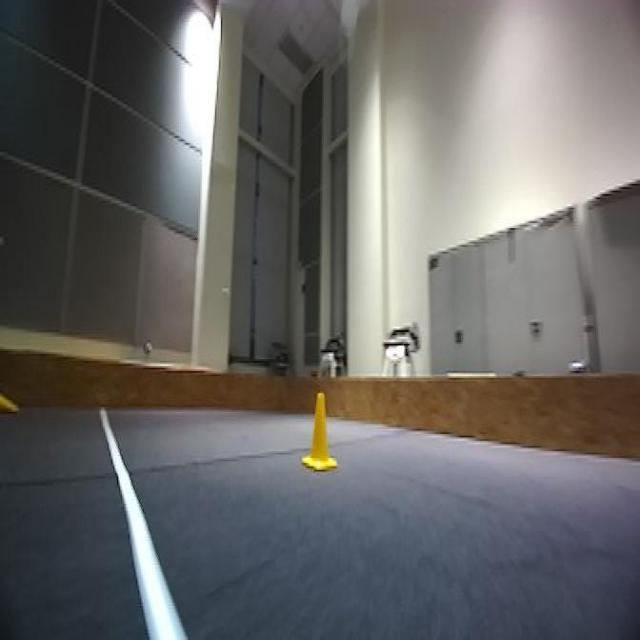frc_cone: (306, 393, 343, 472), (0, 389, 17, 414)
